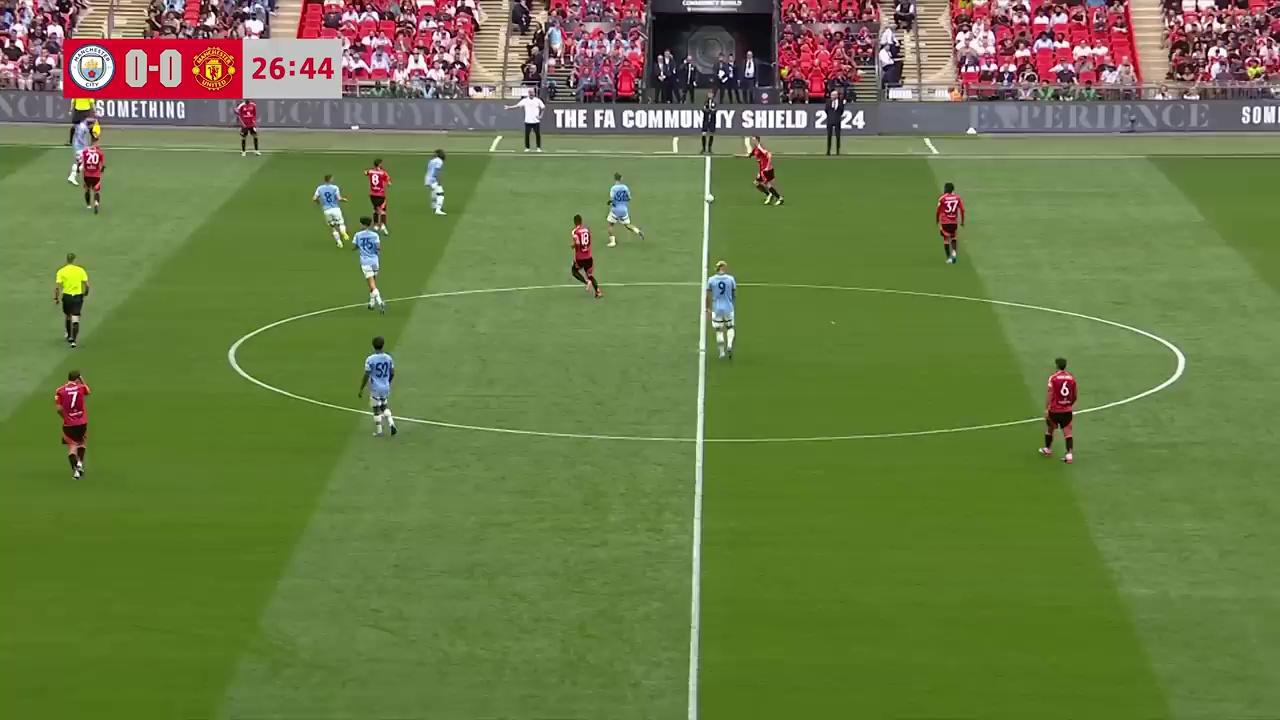ball: (704, 188, 716, 204)
player: (1038, 357, 1078, 462), (54, 369, 90, 480), (358, 335, 397, 437), (349, 216, 387, 313), (705, 258, 737, 360), (606, 172, 644, 246), (569, 214, 602, 299), (313, 174, 348, 247), (935, 182, 965, 265), (752, 140, 783, 207), (363, 158, 391, 232), (82, 140, 106, 214), (235, 99, 261, 157), (424, 148, 446, 215), (67, 122, 90, 184)
referee: (53, 252, 91, 347), (70, 93, 103, 141), (235, 99, 261, 157)
